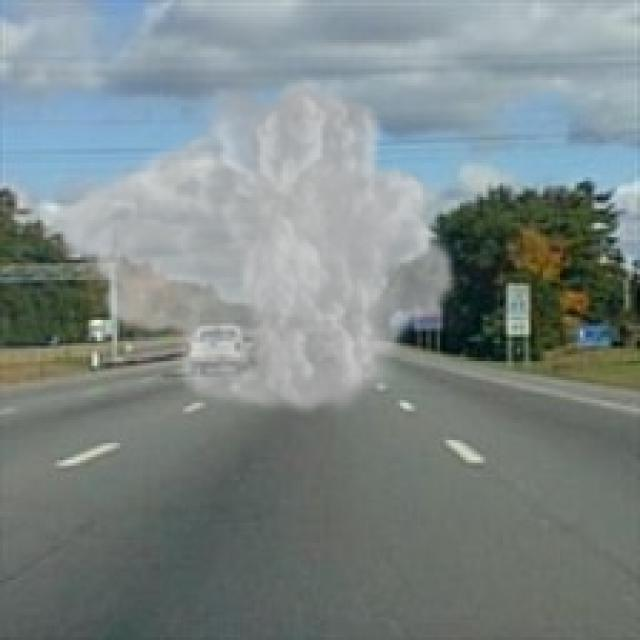Smoke: (51, 77, 460, 423)
